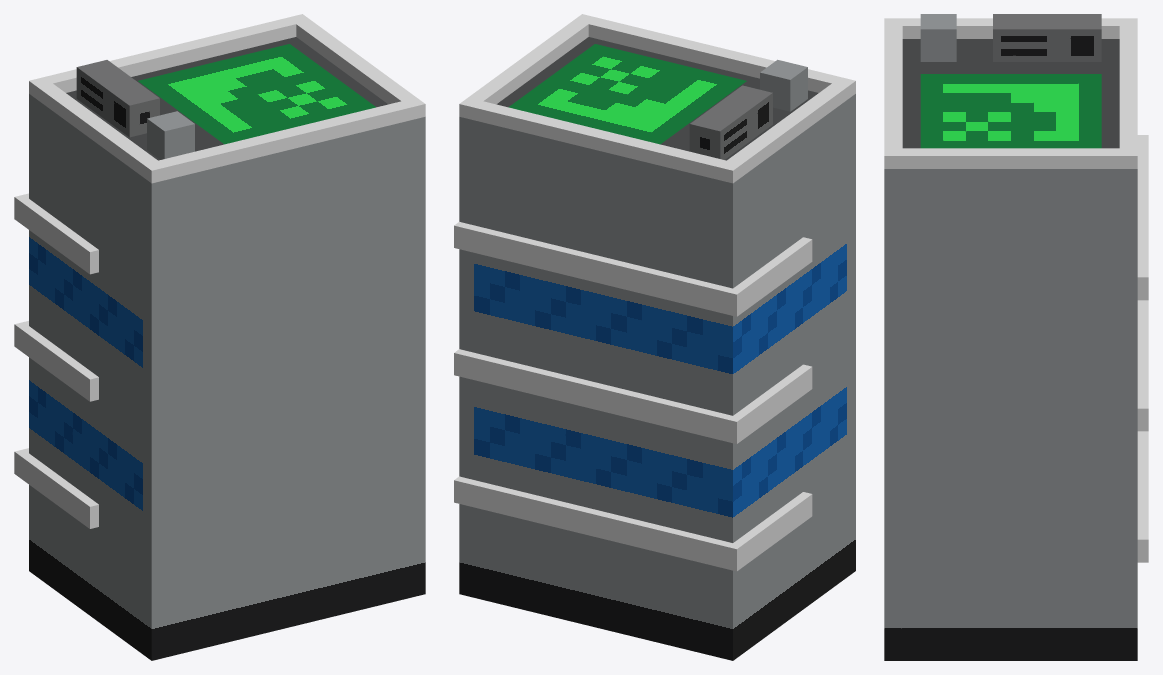
Rendered from predio2.fbx.
The picture shows the model from 3 angles, left to right: view 1: azimuth 30°, elevation 25°; view 2: azimuth 150°, elevation 25°; view 3: azimuth 270°, elevation 25°; orthographic projection. The views are drawn at different scales.
Parts seen in each view (by area): view 1: cube, plane, cube_8, cube_7, cube_11, cube_9, cube_10, cube_4, cube_2, cube_5, cube_12; view 2: cube, plane, cube_1, cube_3, cube_6, cube_7, cube_8, cube_11, cube_9, cube_10, cube_2, cube_4 (+2 smaller); view 3: cube, plane, cube_11, cube_10, cube_7, cube_8, cube_1, cube_12, cube_6, cube_3, cube_9.
Boxes of the visible parts, x1,y1,x2,y2 form: cube: [29, 37, 425, 660]; plane: [138, 44, 375, 144]; cube_8: [143, 97, 425, 183]; cube_7: [29, 14, 310, 99]; cube_11: [76, 60, 159, 137]; cube_9: [37, 83, 157, 176]; cube_10: [296, 20, 416, 104]; cube_4: [14, 322, 98, 401]; cube_2: [14, 194, 98, 274]; cube_5: [14, 449, 98, 528]; cube_12: [147, 111, 194, 159]; cube: [459, 37, 855, 660]; plane: [508, 44, 746, 144]; cube_1: [454, 222, 732, 314]; cube_3: [454, 349, 732, 441]; cube_6: [454, 476, 732, 569]; cube_7: [459, 97, 741, 183]; cube_8: [573, 14, 855, 99]; cube_11: [689, 85, 772, 159]; cube_9: [727, 83, 847, 176]; cube_10: [468, 20, 588, 104]; cube_2: [727, 237, 812, 316]; cube_4: [727, 364, 812, 443]; cube: [884, 39, 1137, 660]; plane: [920, 74, 1101, 148]; cube_11: [993, 14, 1101, 61]; cube_10: [902, 148, 1119, 168]; cube_7: [1119, 18, 1137, 168]; cube_8: [884, 18, 902, 168]; cube_1: [1137, 139, 1148, 300]; cube_12: [920, 14, 956, 61]; cube_6: [1137, 431, 1148, 562]; cube_3: [1137, 300, 1148, 431]; cube_9: [902, 18, 1119, 38].
Size of the model in its own units: 58.12 by 100 by 45.62.
Materials: 1 (1 with a texture image).
